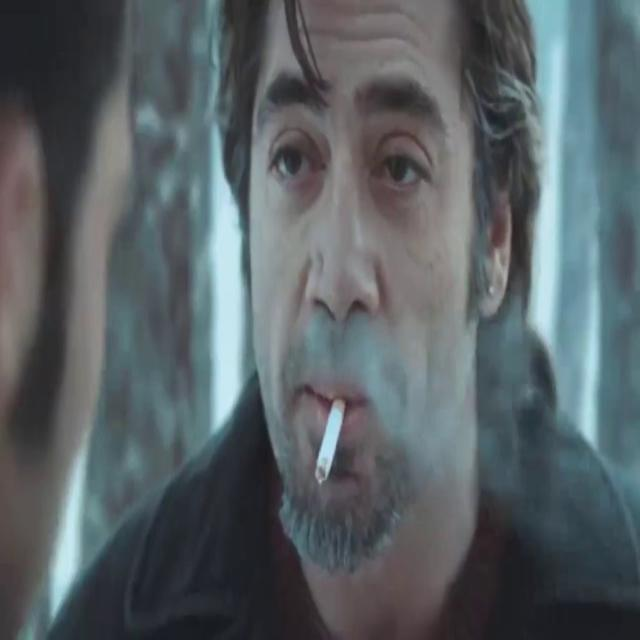Smooking: (304, 398, 348, 492)
